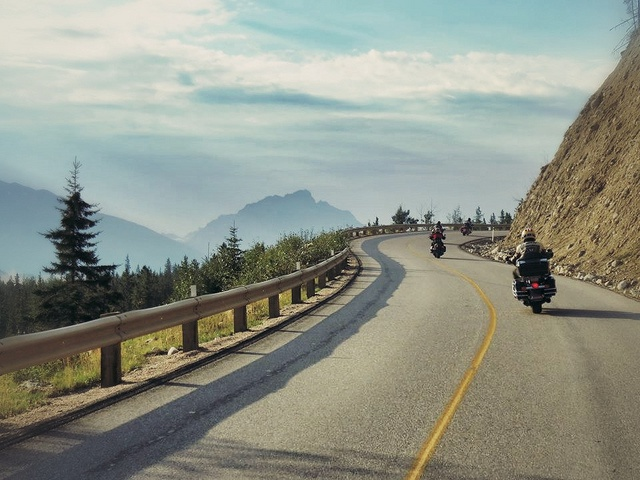non-vehicle: (505, 248, 556, 313), (429, 233, 446, 258), (460, 224, 473, 235)
